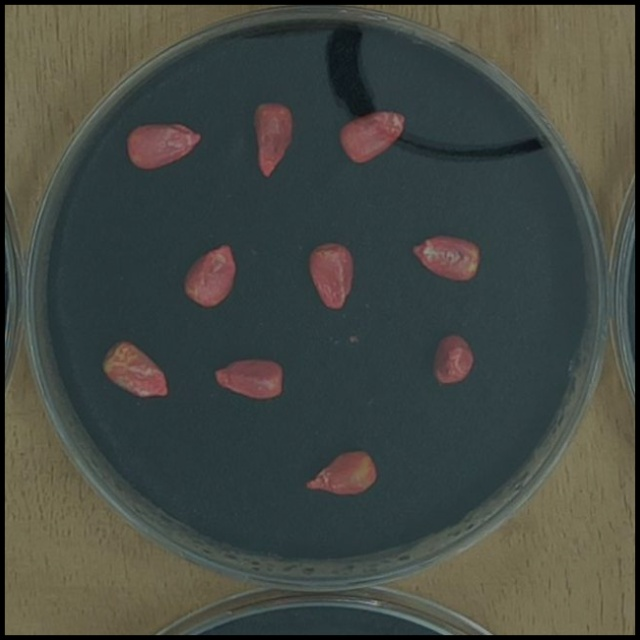Zea mays: (94, 332, 176, 404), (120, 115, 207, 176), (331, 105, 413, 169), (298, 441, 382, 502), (176, 237, 242, 314), (402, 227, 485, 288), (247, 95, 300, 186), (301, 237, 359, 314), (205, 351, 289, 403), (427, 324, 478, 389)
